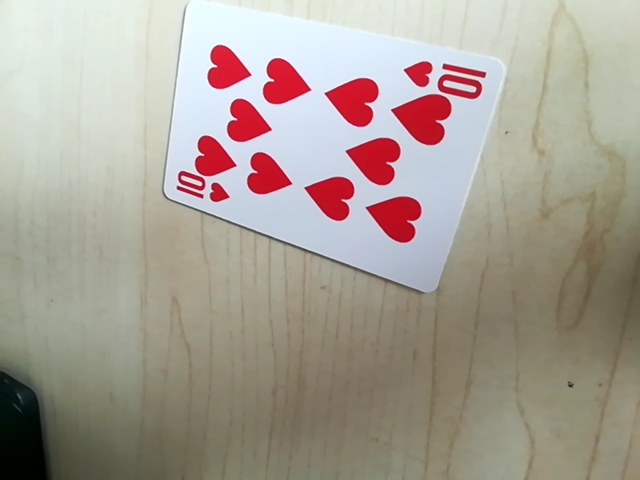hx 10: (404, 57, 493, 97), (169, 176, 232, 208)
